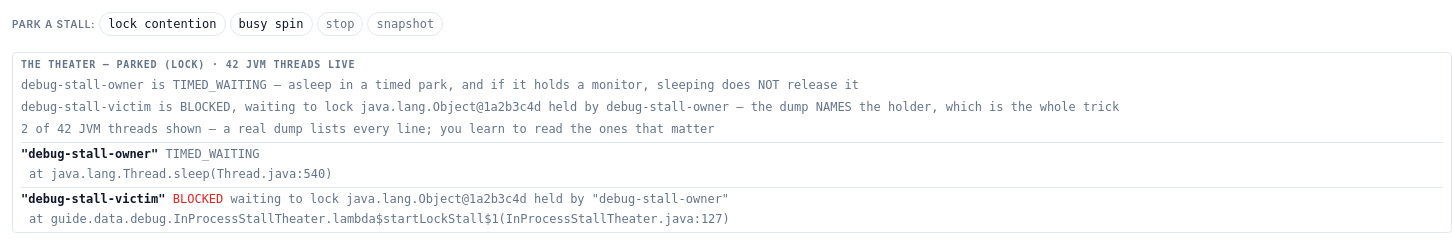
DebugStallDemo › stops the stall and shows the idle report with the duration
Check: the element with test id "debug-thread-1" is shown, box [21, 187, 1443, 228]
Click the button with test id "debug-stop" at (340, 24), box [316, 12, 363, 36]
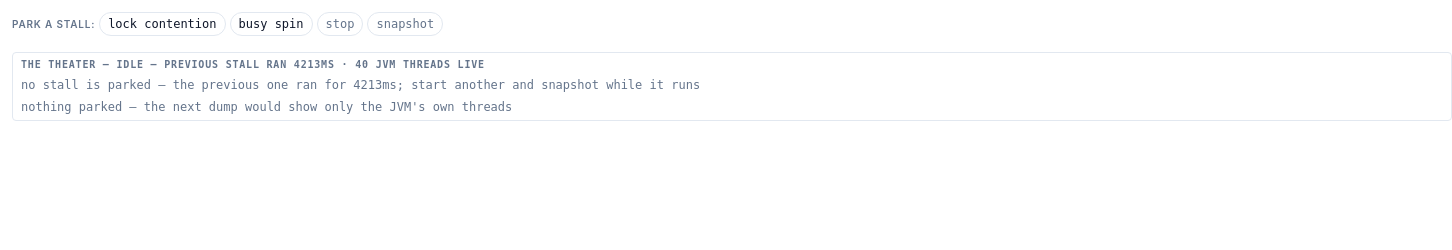
Check: the element with test id "debug-report" shows "idle — previous stall ran 4213ms", box [116, 59, 335, 70]
Check: the element with test id "debug-report" shows "nothing parked", box [21, 100, 512, 114]
